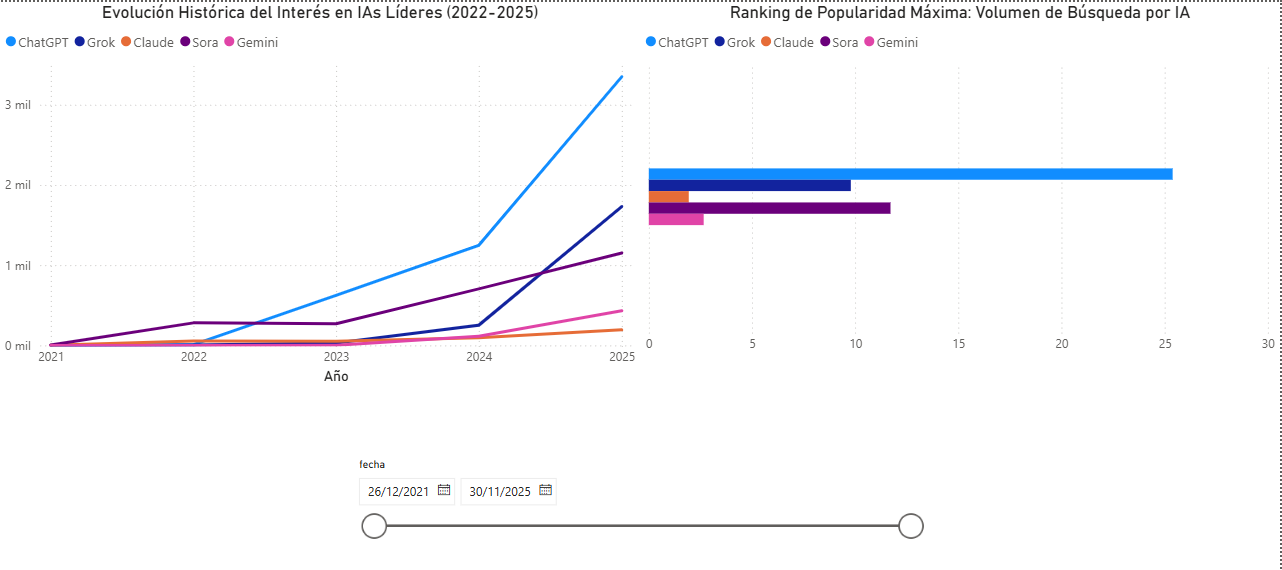

The page's visual inventory and layout, read from the dashboard file:
{"tool":"powerbi","page":{"name":"Página 1","canvas":[1280,720],"ordinal":0},"visuals":[{"type":"lineChart","title":"Evolución Histórica del Interés en IAs Líderes (2022-2025)","fields":{"Category":["datos_tendencias_20_IAs.fecha.Variación.Jerarquía de fechas.Año","datos_tendencias_20_IAs.fecha.Variación.Jerarquía de fechas.Trimestre","datos_tendencias_20_IAs.fecha.Variación.Jerarquía de fechas.Mes","datos_tendencias_20_IAs.fecha.Variación.Jerarquía de fechas.Día"],"Y":["Sum(datos_tendencias_20_IAs.ChatGPT)","Sum(datos_tendencias_20_IAs.Grok)","Sum(datos_tendencias_20_IAs.Claude)","Sum(datos_tendencias_20_IAs.Sora)","Sum(datos_tendencias_20_IAs.Gemini)"]},"box":[0,0,640,387.1],"z":0},{"type":"clusteredBarChart","title":"Ranking de Popularidad Máxima: Volumen de Búsqueda por IA","fields":{"Y":["Avg(datos_tendencias_20_IAs.ChatGPT)","Avg(datos_tendencias_20_IAs.Grok)","Avg(datos_tendencias_20_IAs.Claude)","Avg(datos_tendencias_20_IAs.Sora)","Avg(datos_tendencias_20_IAs.Gemini)"]},"box":[640,0,640,360],"z":1000},{"type":"slicer","fields":{"Values":["datos_tendencias_20_IAs.fecha"]},"box":[346.2,451.2,586.2,110],"z":1001}]}

Visuals, with their boxes on the page's 1280x720 design canvas (x1, y1, x2, y2). These are canvas units, not pixel positions in the 1282x570 screenshot, which may show the page scaled, cropped or inside an application window:
"Evolución Histórica del Interés en IAs Líderes (2022-2025)" lineChart: <box>0,0,640,387</box>
"Ranking de Popularidad Máxima: Volumen de Búsqueda por IA" clusteredBarChart: <box>640,0,1280,360</box>
slicer - datos_tendencias_20_IAs.fecha: <box>346,451,932,561</box>
